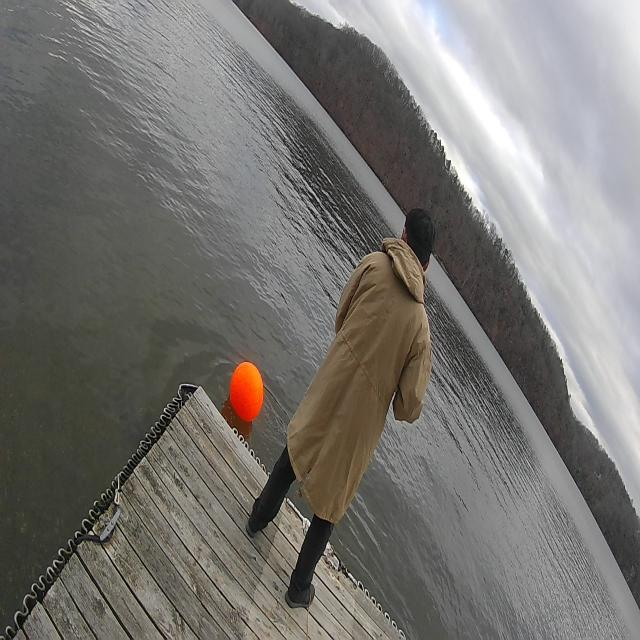Buoy: (228, 356, 265, 426)
